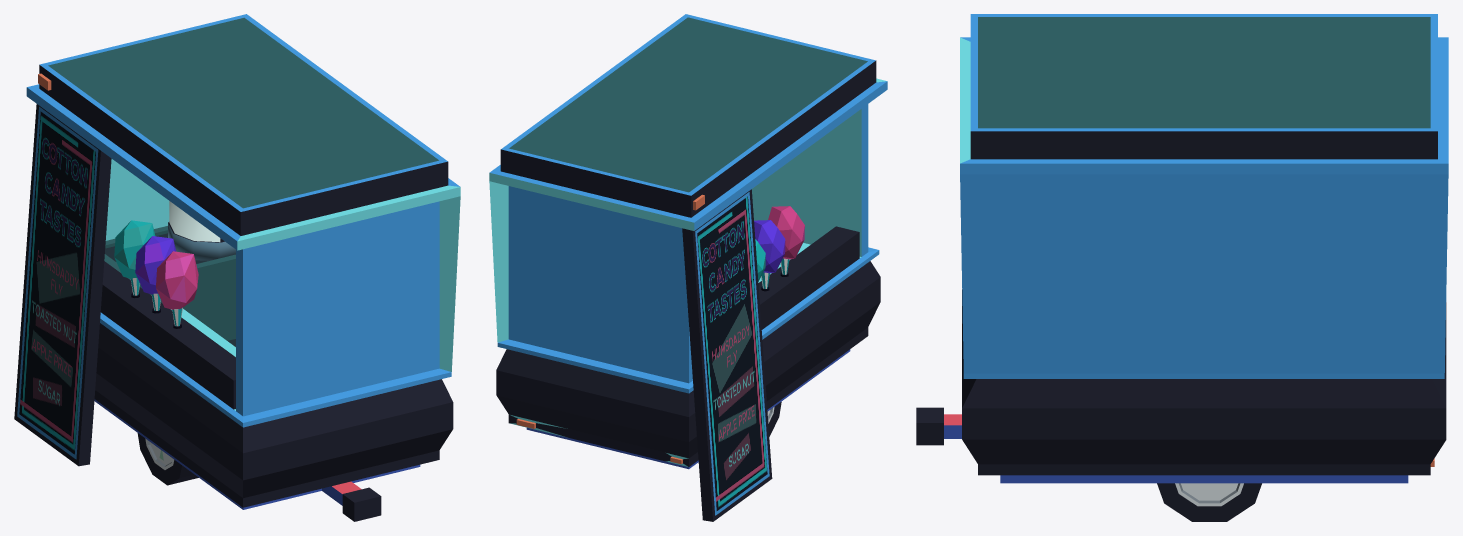
The model's file is Building_StreetCart CottonCandy.fbx.
The picture shows the model from 3 angles, left to right: view 1: azimuth 30°, elevation 25°; view 2: azimuth 150°, elevation 25°; view 3: azimuth 270°, elevation 25°; orthographic projection. The views are drawn at different scales.
Visible parts, largest first — view 1: Cube.016, Cube.017, Cone.001, Cylinder.057, Cone.002, Cone, Cylinder.055; view 2: Cube.016, Cube.017, Cone.001, Cone; view 3: Cube.016, Cylinder.056.
Part boxes in pixels (<box>): Cube.016: <box>26,14,460,521</box>; Cube.017: <box>14,104,111,466</box>; Cone.001: <box>156,251,198,326</box>; Cylinder.057: <box>168,201,235,260</box>; Cone.002: <box>114,220,155,295</box>; Cone: <box>135,236,176,310</box>; Cylinder.055: <box>137,433,198,485</box>; Cube.016: <box>489,14,887,469</box>; Cube.017: <box>682,189,772,521</box>; Cone.001: <box>768,206,804,274</box>; Cone: <box>754,220,785,288</box>; Cube.016: <box>916,14,1448,483</box>; Cylinder.056: <box>1157,483,1261,521</box>.
Bounding box in the file's own units: 178 × 249 × 296.
